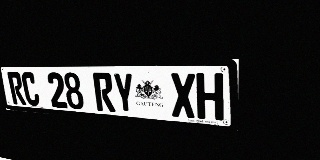2: (46, 72, 68, 108)
8: (63, 72, 85, 110)
C: (20, 72, 41, 106)
H: (196, 73, 224, 121)
R: (92, 73, 116, 112), (7, 72, 26, 105)
X: (170, 73, 196, 119)
Y: (112, 73, 136, 114)
